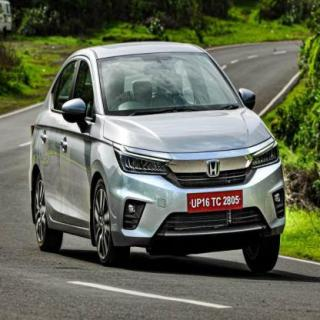Normal_vehicle: (29, 42, 285, 272)
